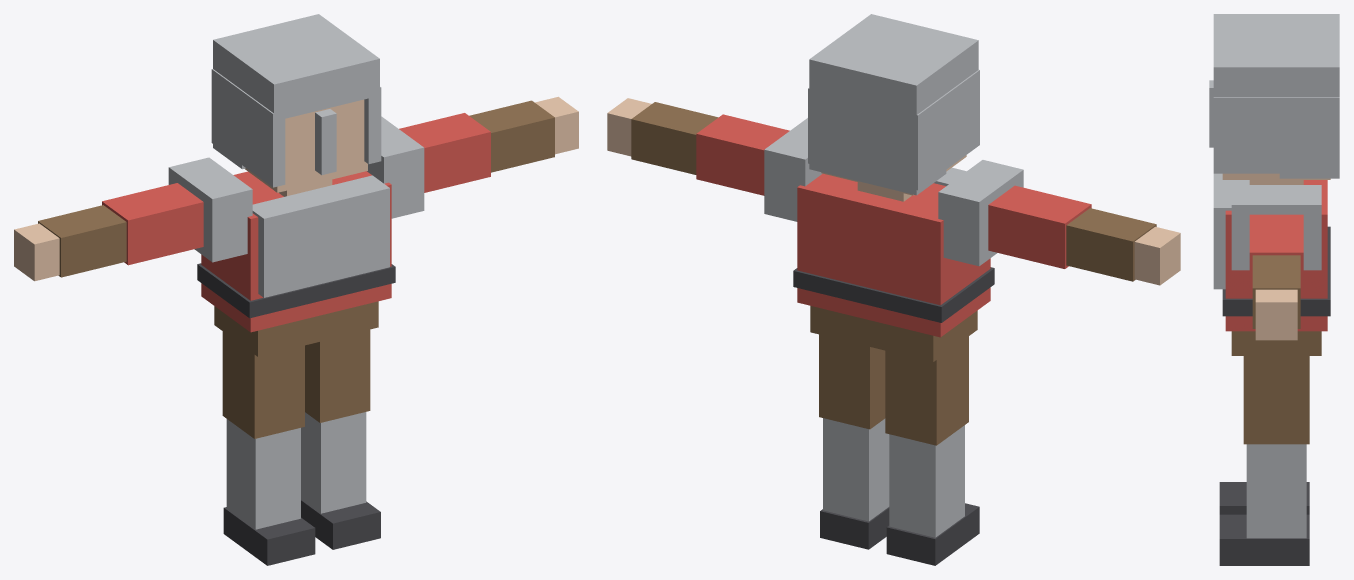
Rendered from knight_tpose.fbx.
3 renders of one model, left to right at view 1: azimuth 30°, elevation 25°; view 2: azimuth 150°, elevation 25°; view 3: azimuth 270°, elevation 25°, orthographic. The views are drawn at different scales.
Parts seen in each view (by area): view 1: KnightMesh; view 2: KnightMesh; view 3: KnightMesh.
Boxes of the visible parts, box(x1,y1,x2,y2) form: KnightMesh: box(14, 14, 578, 565); KnightMesh: box(607, 14, 1180, 565); KnightMesh: box(1209, 14, 1339, 565).
Bounding box in the file's own units: 2.16 × 1.83 × 0.435.
